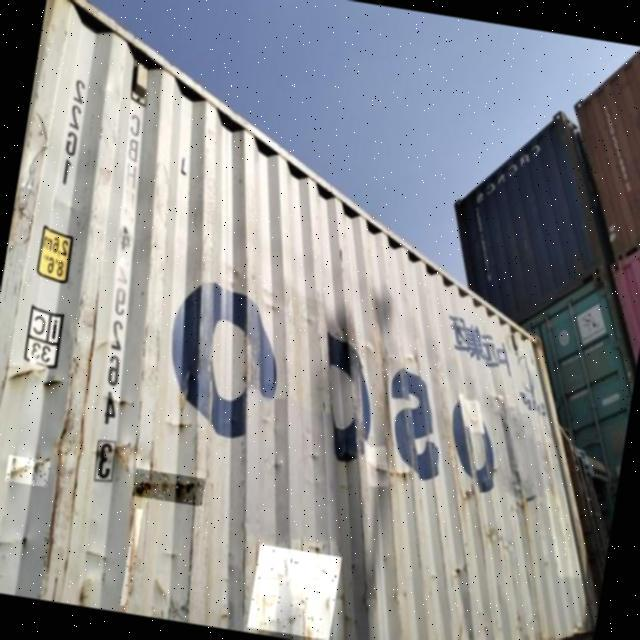Minor-Dent: (247, 544, 342, 640)
Rust: (132, 468, 206, 507), (118, 508, 143, 606), (5, 455, 51, 487)
